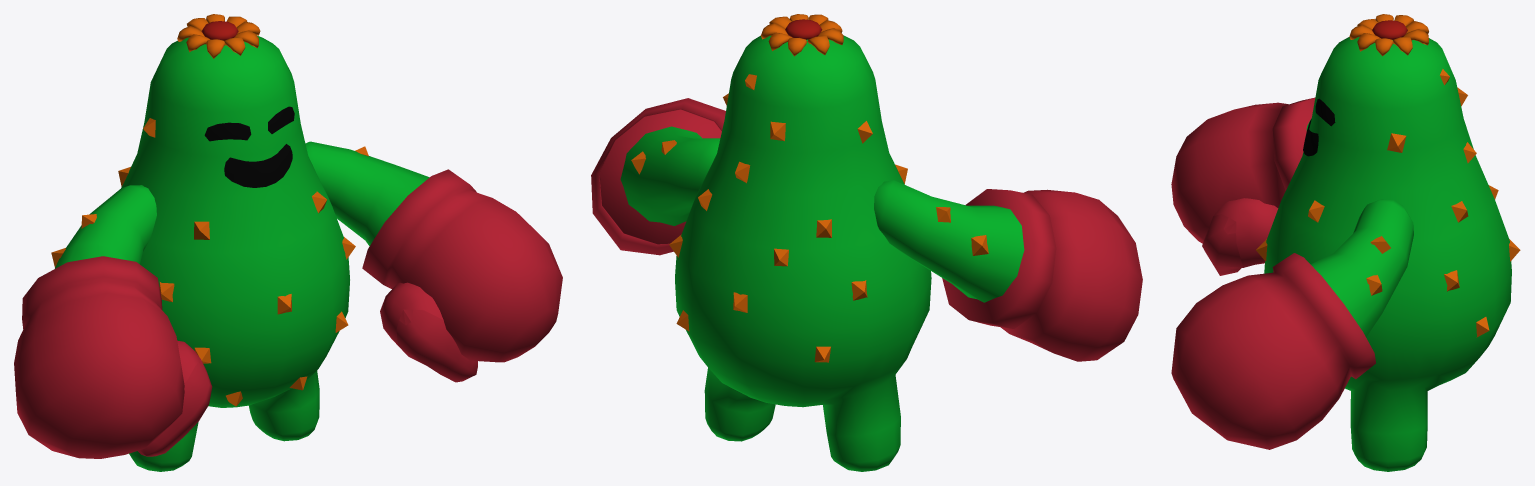
The model's file is cactus.FBX.
3 views of the same model, side by side, from view 1: azimuth 30°, elevation 25°; view 2: azimuth 150°, elevation 25°; view 3: azimuth 270°, elevation 25° (orthographic). The views are drawn at different scales.
Parts seen in each view (by area): view 1: Sphere001; view 2: Sphere001; view 3: Sphere001.
Boxes of the visible parts, x1,y1,x2,y2 form: Sphere001: (14,14,562,471); Sphere001: (591,14,1142,471); Sphere001: (1171,14,1520,471).
Bounding box in the file's own units: 44.55 × 33.9 × 26.28.
